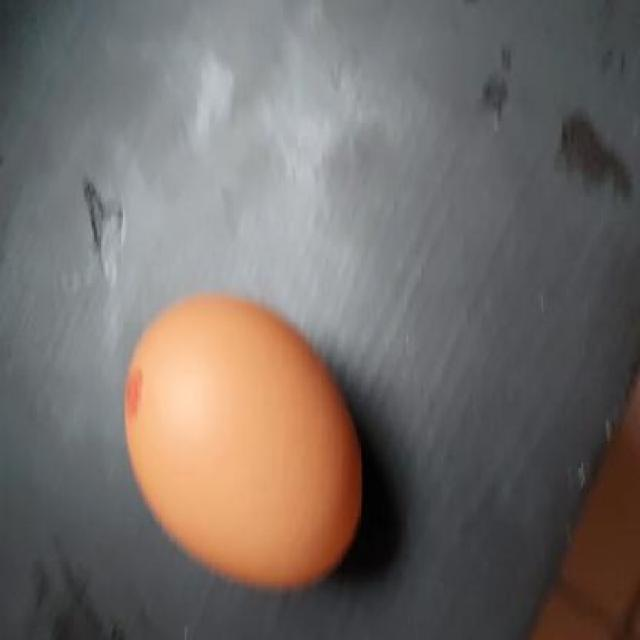biodegradable: (126, 294, 360, 588)
